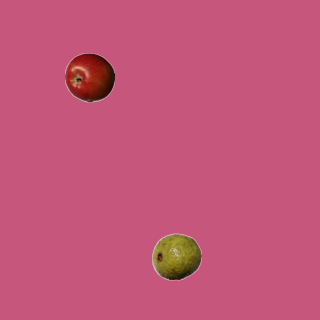Apple Braeburn: (64, 52, 114, 102)
Guava: (151, 231, 201, 281)
